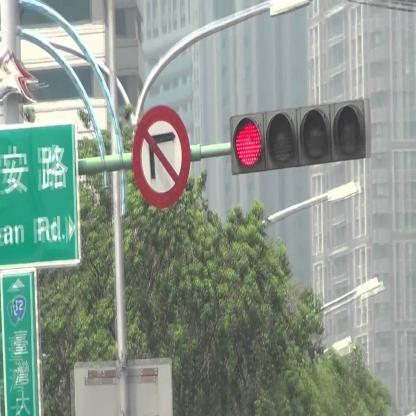Red Light: (226, 106, 375, 170)
